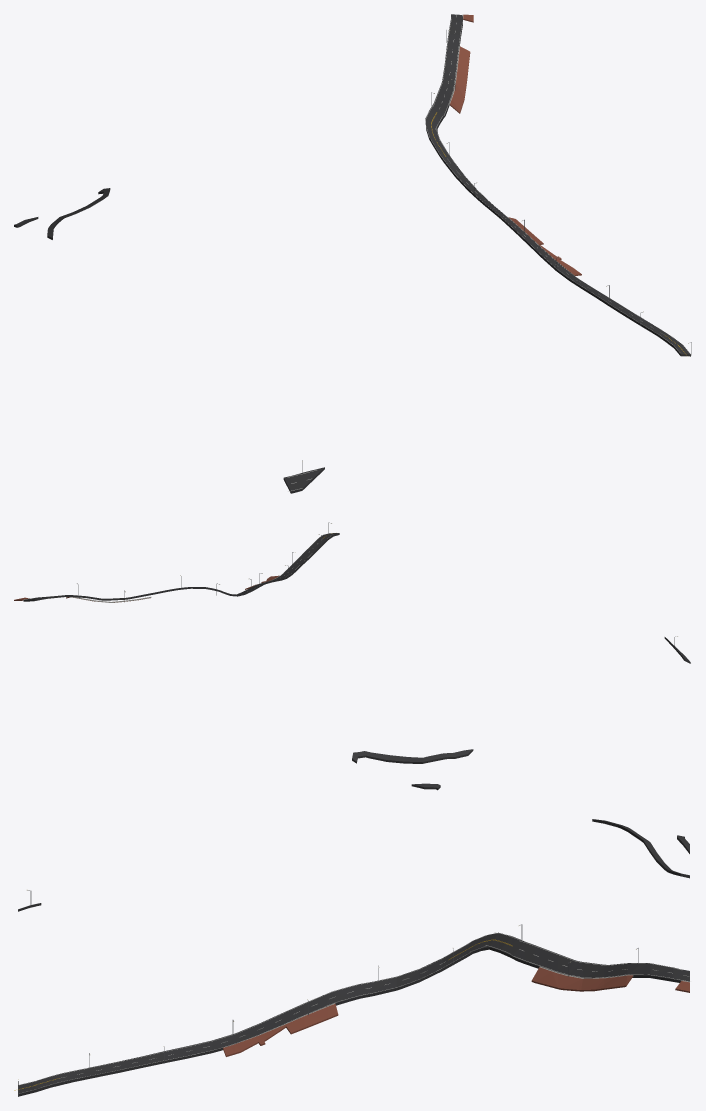
The picture shows the model from 3 angles, top to bottom: view 1: azimuth 30°, elevation 25°; view 2: azimuth 150°, elevation 25°; view 3: azimuth 270°, elevation 25°; orthographic projection. The views are drawn at different scales.
Bounding box in the file's own units: 277 × 99.78 × 294.
